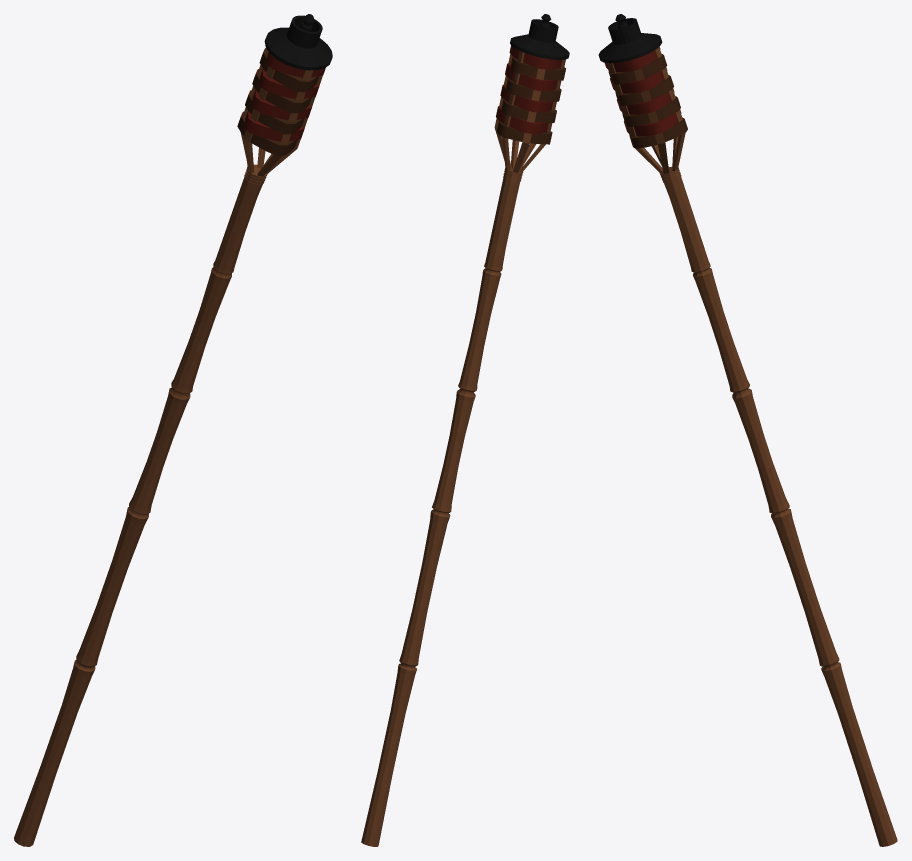
Rendered from ColladaTorch.dae.
3 renders of one model, left to right at view 1: azimuth 90°, elevation 25°; view 2: azimuth 150°, elevation 25°; view 3: azimuth 270°, elevation 25°, orthographic. The views are drawn at different scales.
Parts seen in each view (by area): view 1: Stick, Torch_polySurface116, Top, Torch_polySurface117; view 2: Stick, Torch_polySurface116, Torch_polySurface117, Top; view 3: Stick, Torch_polySurface116, Torch_polySurface117, Top.
Boxes of the visible parts, x1,y1,x2,y2 form: Stick: (14, 48, 322, 846); Torch_polySurface116: (237, 48, 318, 155); Top: (264, 14, 332, 70); Torch_polySurface117: (244, 52, 325, 141); Stick: (361, 51, 565, 846); Torch_polySurface116: (497, 56, 565, 144); Torch_polySurface117: (496, 45, 561, 134); Top: (510, 14, 569, 59); Stick: (606, 47, 897, 846); Torch_polySurface116: (608, 54, 687, 148); Torch_polySurface117: (604, 47, 681, 136); Top: (598, 14, 662, 63).
Size of the model in its own units: 24.71 by 213 by 71.84.
